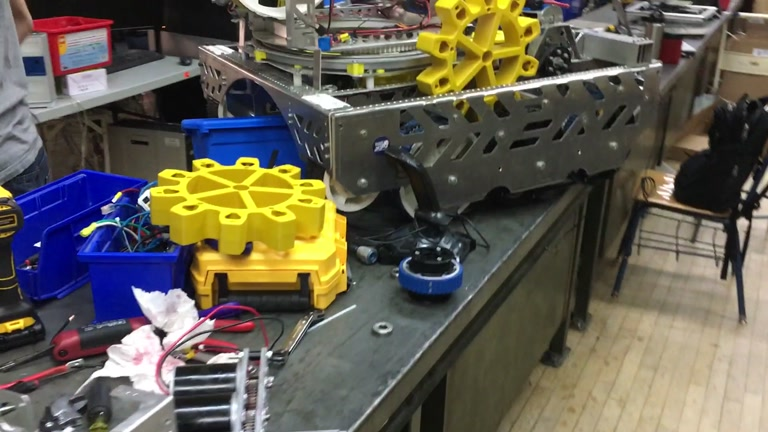gear: (149, 155, 325, 255), (417, 1, 540, 117)
